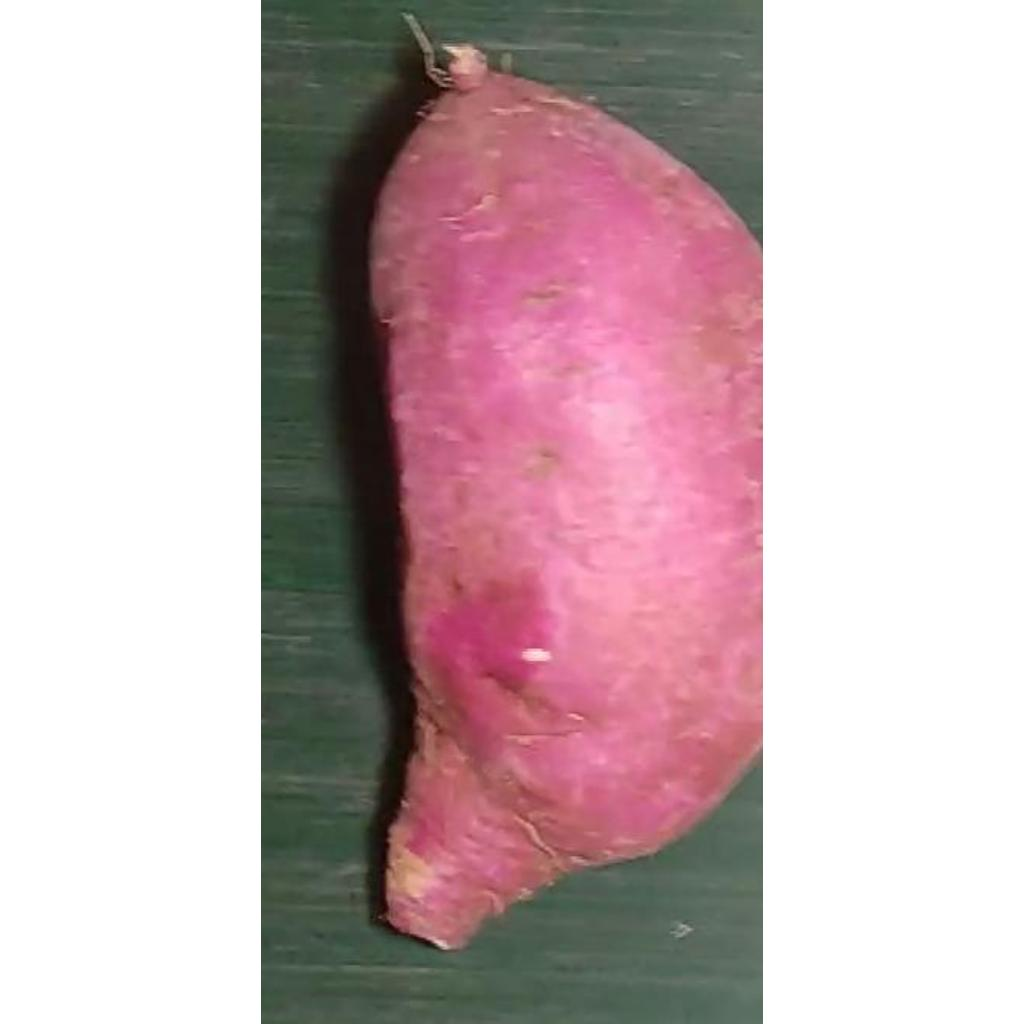Sweet Potato: (367, 40, 764, 954)
